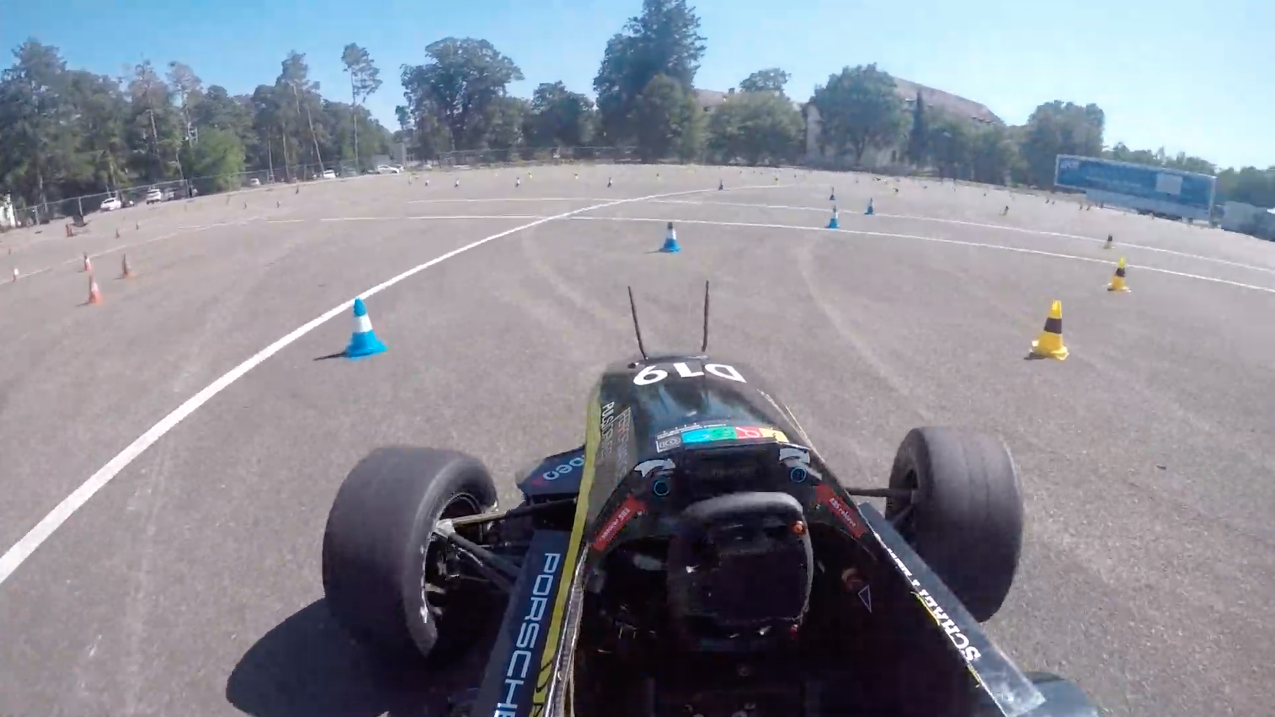lcone: (340, 294, 389, 361), (657, 220, 684, 256), (825, 205, 842, 232)
rcone: (1024, 296, 1076, 363), (1104, 256, 1133, 295)
